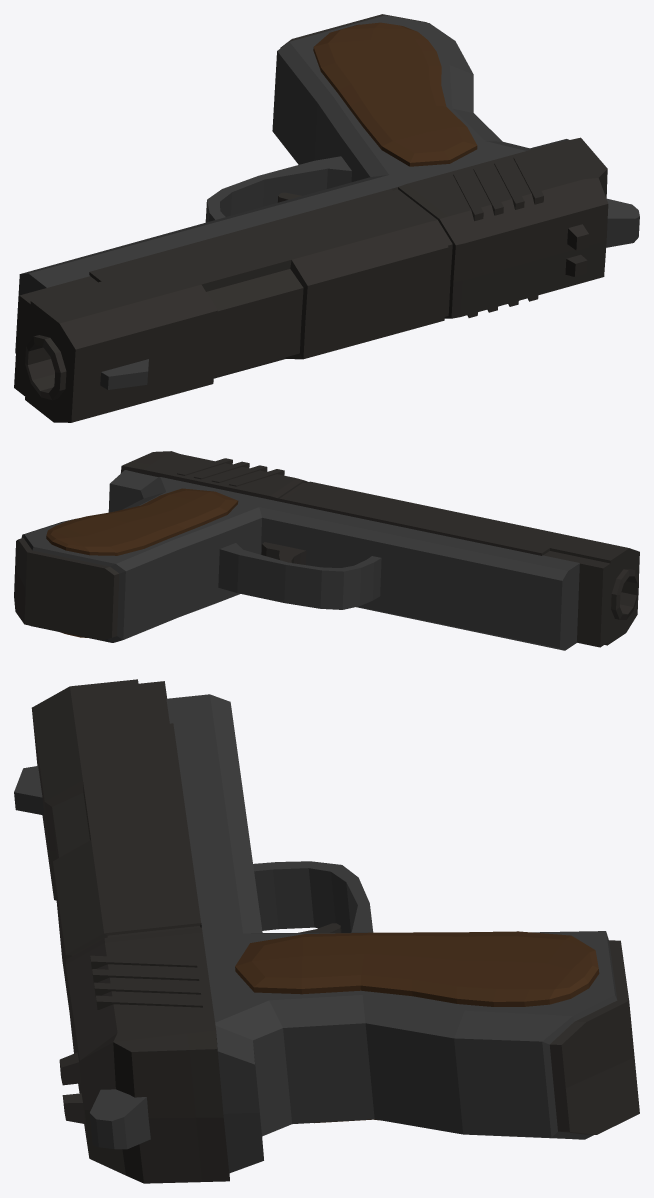
File: Gun.fbx
3 renders of one model, top to bottom at view 1: azimuth 30°, elevation 25°; view 2: azimuth 150°, elevation 25°; view 3: azimuth 270°, elevation 25°, orthographic. The views are drawn at different scales.
Parts seen in each view (by area): view 1: Pistol; view 2: Pistol; view 3: Pistol.
Part boxes in pixels (box(x1,y1,x2,y2)): Pistol: box(14, 14, 639, 422); Pistol: box(14, 451, 639, 650); Pistol: box(14, 679, 639, 1183).
Size of the model in its own units: 25.83 by 5.62 by 17.78.
